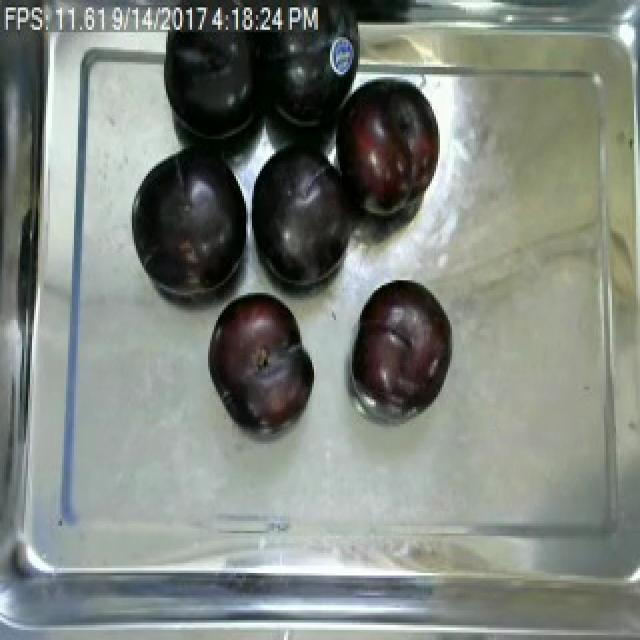Fruit: (126, 132, 254, 300), (242, 129, 364, 298), (200, 283, 322, 437), (330, 74, 448, 226), (344, 273, 458, 417)
